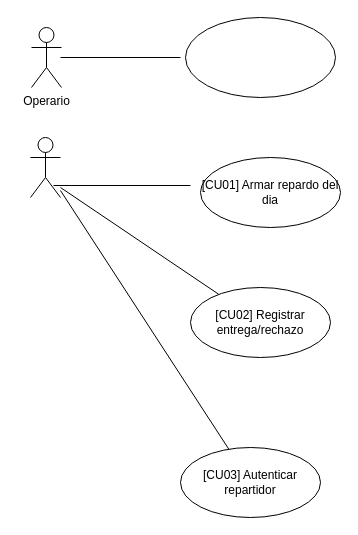
Image size: 358x535. Some labels were removed from this diagram. The shapes that lost their labels are listed below. From the top down, each one's centre as x and y in pixels, then its label:
(x=260, y=57): [CU04] Registrar pedido
(x=45, y=167): Repartidor
